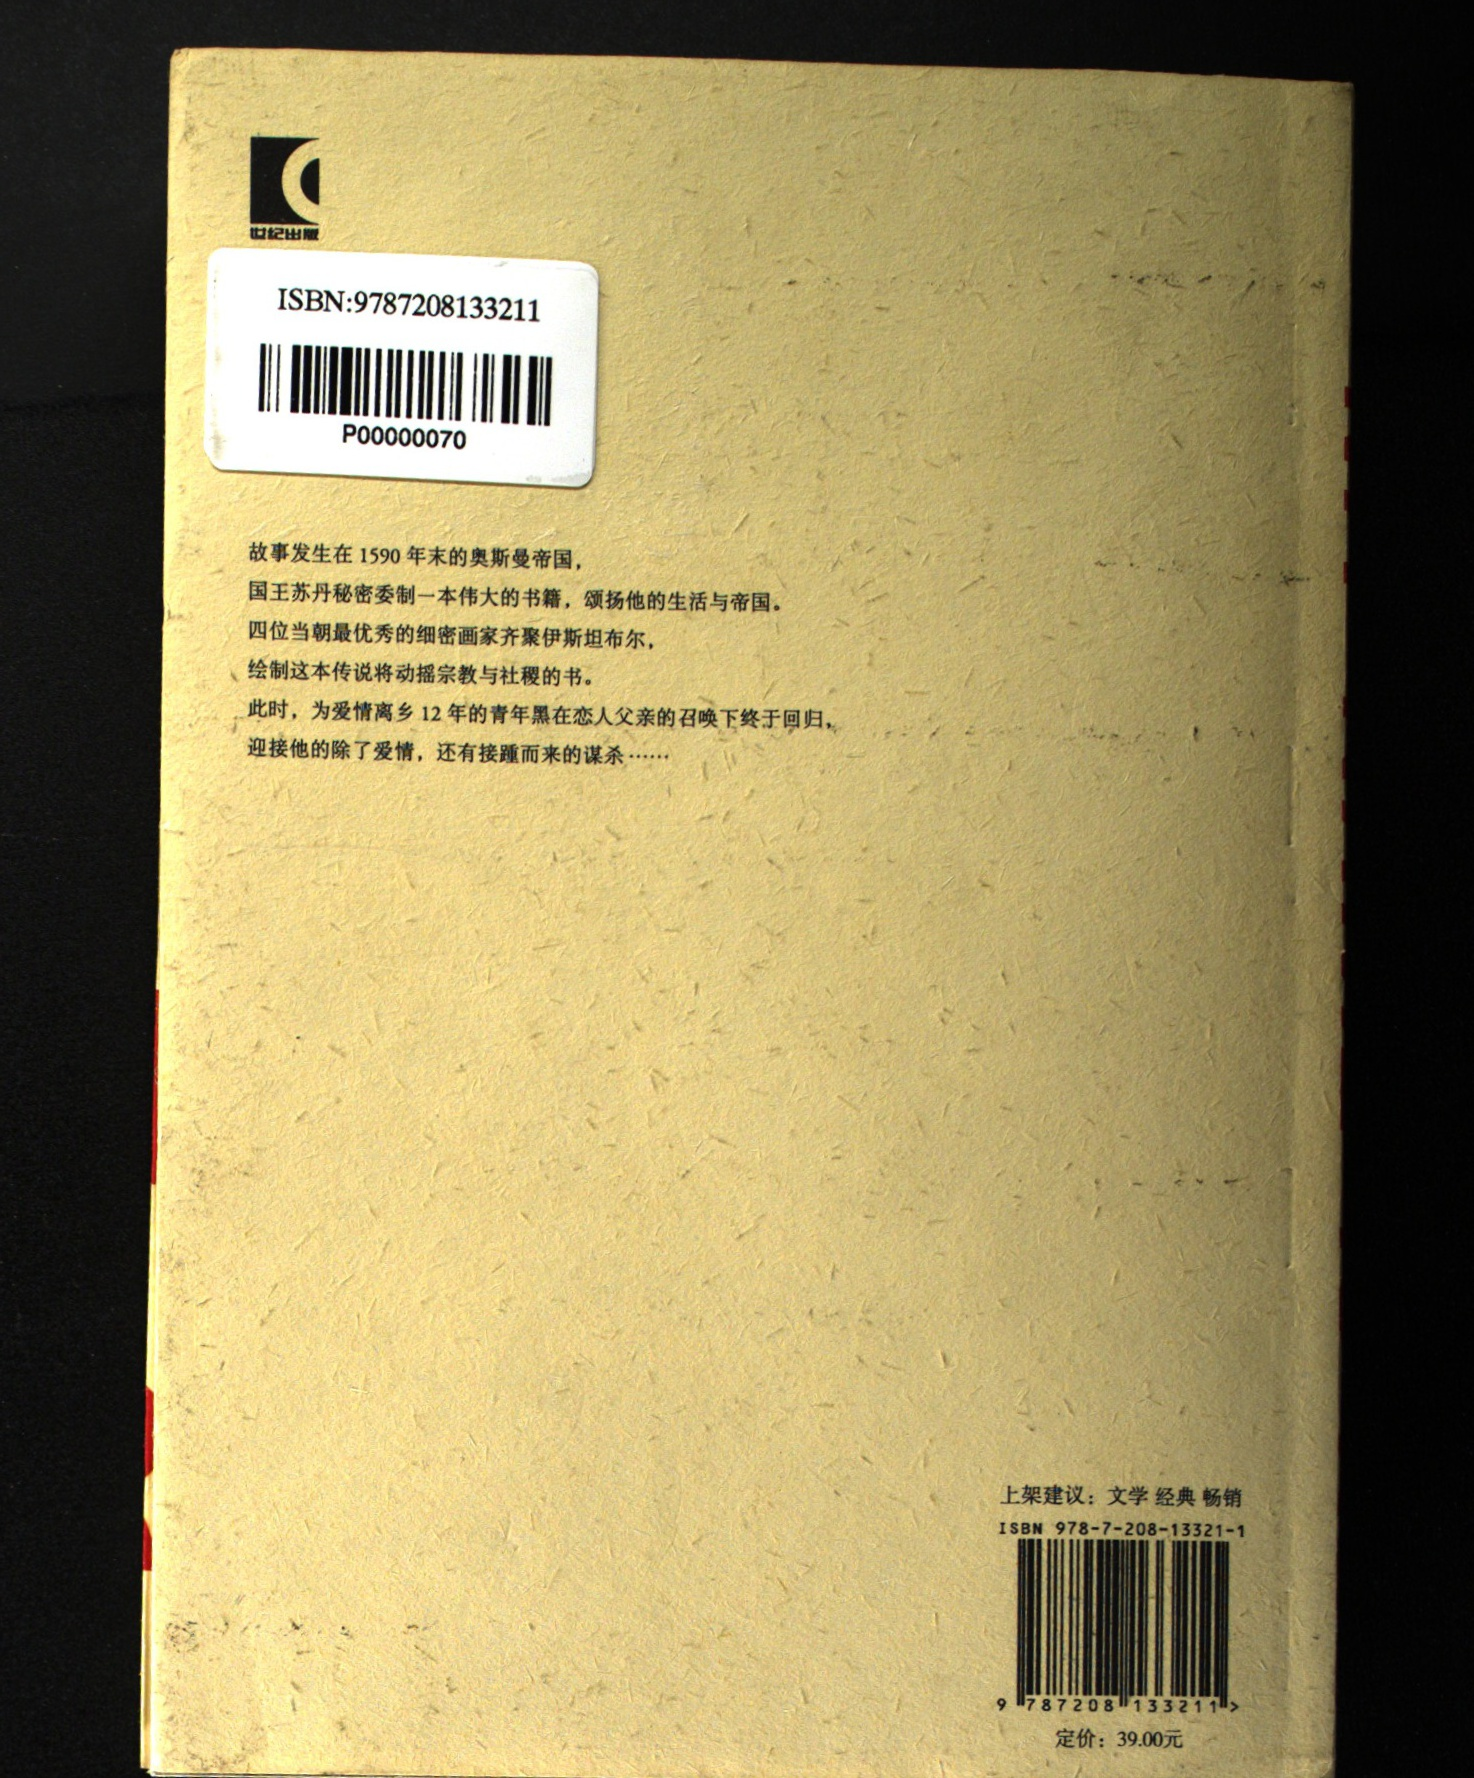barcode: (220, 247, 595, 484), (981, 1475, 1285, 1725)
